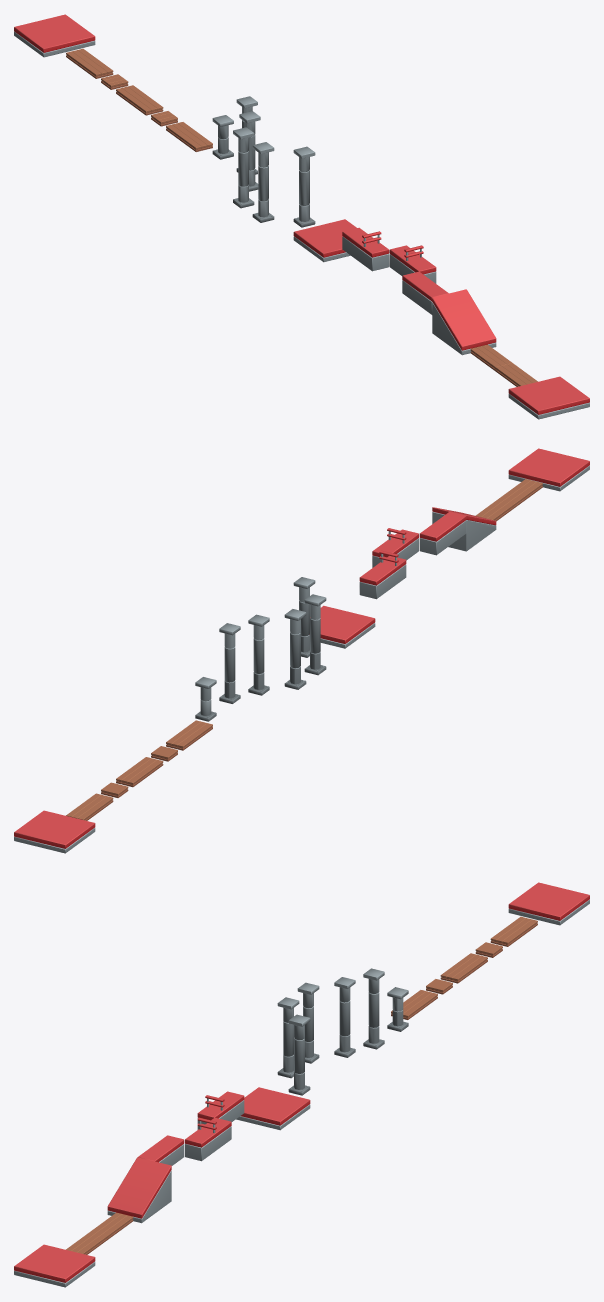
Rendered from level4.glb.
3 renders of one model, top to bottom at view 1: azimuth 30°, elevation 25°; view 2: azimuth 150°, elevation 25°; view 3: azimuth 330°, elevation 25°, orthographic.
Visible parts, largest first — view 1: platform_slope_4x6x4_red.001, platform_6x6x1_red.001, platform_6x6x1_red.003, platform_6x6x1_red.002, platform_6x2x2_red.003, platform_6x2x2_red.001, pillar_2x2x8.001, pillar_2x2x8.002, pillar_2x2x8.003, platform_6x2x2_red.002, floor_wood_2x6.007, floor_wood_2x6.006 (+5 smaller); view 2: platform_6x6x1_red.003, platform_6x6x1_red.001, platform_6x6x1_red.002, platform_6x2x2_red.001, platform_6x2x2_red.003, platform_slope_4x6x4_red.001, pillar_2x2x8.004, pillar_2x2x8.005, pillar_2x2x8.002, pillar_2x2x8.003, platform_6x2x2_red.002, pillar_2x2x8.001 (+5 smaller); view 3: platform_slope_4x6x4_red.001, platform_6x6x1_red.001, platform_6x6x1_red.003, platform_6x6x1_red.002, platform_6x2x2_red.002, pillar_2x2x8.005, pillar_2x2x8.004, pillar_2x2x8.001, pillar_2x2x8.002, platform_6x2x2_red.003, platform_6x2x2_red.001, pillar_2x2x8.003 (+6 smaller).
Part boxes in pixels (bbox=[...]): platform_slope_4x6x4_red.001: bbox=[432, 289, 496, 355]; platform_6x6x1_red.001: bbox=[508, 376, 589, 419]; platform_6x6x1_red.003: bbox=[14, 14, 95, 57]; platform_6x6x1_red.002: bbox=[293, 219, 356, 262]; platform_6x2x2_red.003: bbox=[342, 227, 389, 271]; platform_6x2x2_red.001: bbox=[402, 271, 448, 314]; pillar_2x2x8.001: bbox=[293, 146, 315, 227]; pillar_2x2x8.002: bbox=[252, 142, 274, 222]; pillar_2x2x8.003: bbox=[233, 127, 254, 208]; platform_6x2x2_red.002: bbox=[389, 245, 436, 283]; floor_wood_2x6.007: bbox=[66, 48, 113, 78]; floor_wood_2x6.006: bbox=[116, 85, 163, 115]; platform_6x6x1_red.003: bbox=[14, 810, 95, 853]; platform_6x6x1_red.001: bbox=[508, 448, 589, 491]; platform_6x6x1_red.002: bbox=[309, 605, 375, 648]; platform_6x2x2_red.001: bbox=[419, 511, 466, 555]; platform_6x2x2_red.003: bbox=[359, 556, 406, 599]; platform_slope_4x6x4_red.001: bbox=[432, 507, 496, 551]; pillar_2x2x8.004: bbox=[248, 614, 269, 695]; pillar_2x2x8.005: bbox=[219, 623, 240, 703]; pillar_2x2x8.002: bbox=[304, 594, 326, 675]; pillar_2x2x8.003: bbox=[284, 609, 306, 689]; platform_6x2x2_red.002: bbox=[372, 529, 418, 567]; pillar_2x2x8.001: bbox=[293, 577, 315, 657]; platform_slope_4x6x4_red.001: bbox=[107, 1157, 171, 1223]; platform_6x6x1_red.001: bbox=[14, 1244, 95, 1287]; platform_6x6x1_red.003: bbox=[508, 882, 589, 925]; platform_6x6x1_red.002: bbox=[236, 1087, 310, 1130]; platform_6x2x2_red.002: bbox=[185, 1117, 231, 1161]; pillar_2x2x8.005: bbox=[363, 968, 384, 1049]; pillar_2x2x8.004: bbox=[334, 977, 355, 1057]; pillar_2x2x8.001: bbox=[288, 1014, 310, 1095]; pillar_2x2x8.002: bbox=[277, 997, 299, 1078]; platform_6x2x2_red.003: bbox=[197, 1091, 244, 1129]; platform_6x2x2_red.001: bbox=[138, 1135, 184, 1165]; pillar_2x2x8.003: bbox=[297, 982, 319, 1063].
Bounding box in the file's own units: 6.8 × 8 × 105.
8 materials, 8 textured.
